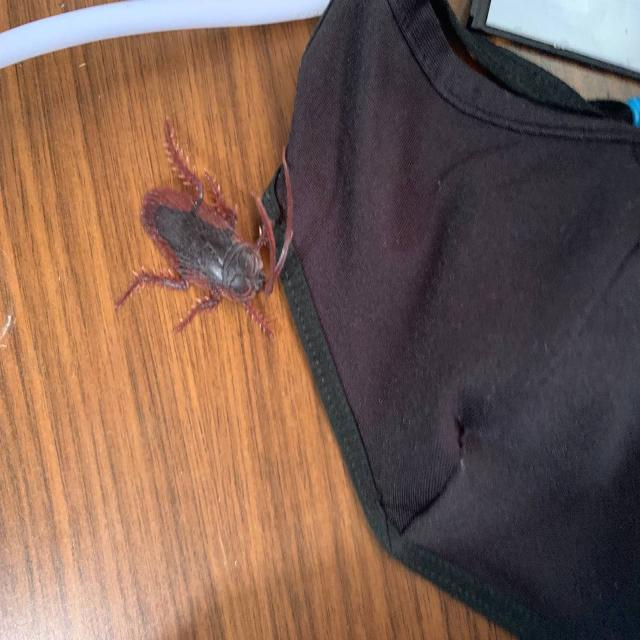Cockroach: (112, 105, 296, 342)
